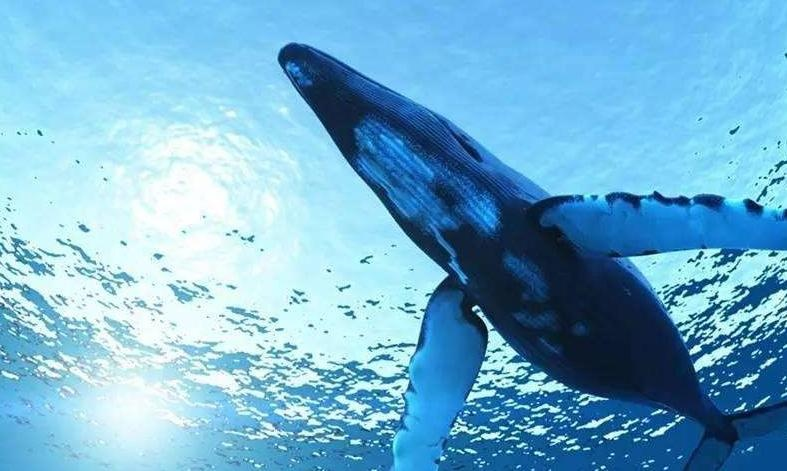fish: (271, 36, 787, 471)
